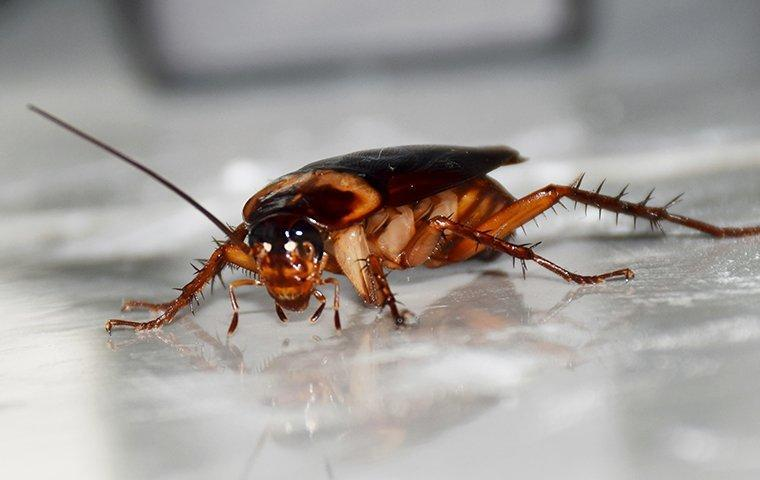cockroach: (191, 140, 564, 335)
